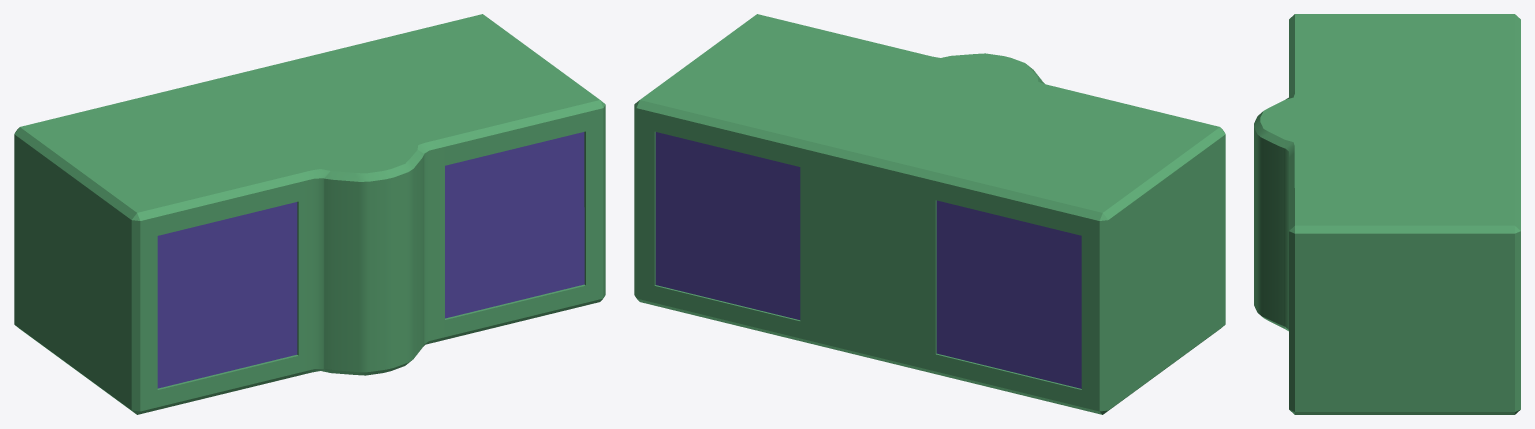
Rendered from table02.fbx.
3 views of the same model, side by side, from view 1: azimuth 30°, elevation 25°; view 2: azimuth 150°, elevation 25°; view 3: azimuth 270°, elevation 25° (orthographic). The views are drawn at different scales.
Visible parts, largest first — view 1: pCube1; view 2: pCube1; view 3: pCube1.
Part boxes in pixels (x1,y1,x2,y2): pCube1: (14,14,605,414); pCube1: (634,14,1225,414); pCube1: (1254,14,1520,414).
Bounding box in the file's own units: 5.81 × 2.36 × 3.02.
